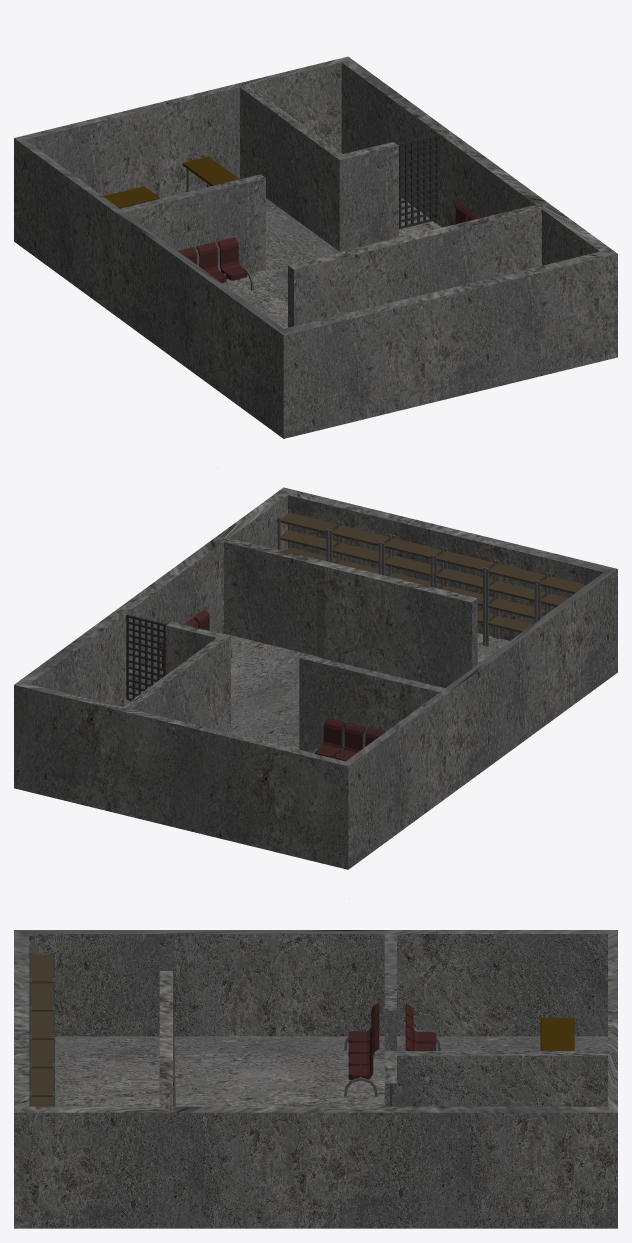
The model's file is TOP ROOM DONE.fbx.
3 renders of one model, top to bottom at view 1: azimuth 30°, elevation 25°; view 2: azimuth 150°, elevation 25°; view 3: azimuth 270°, elevation 25°, orthographic. The views are drawn at different scales.
Visible parts, largest first — view 1: pCube80; view 2: pCube80; view 3: pCube80.
Part boxes in pixels (x1,y1,x2,y2): pCube80: (14,56,617,438); pCube80: (14,467,617,869); pCube80: (14,898,617,1228).
Size of the model in its own units: 1342 by 974 by 1875.
9 materials, 1 textured.
